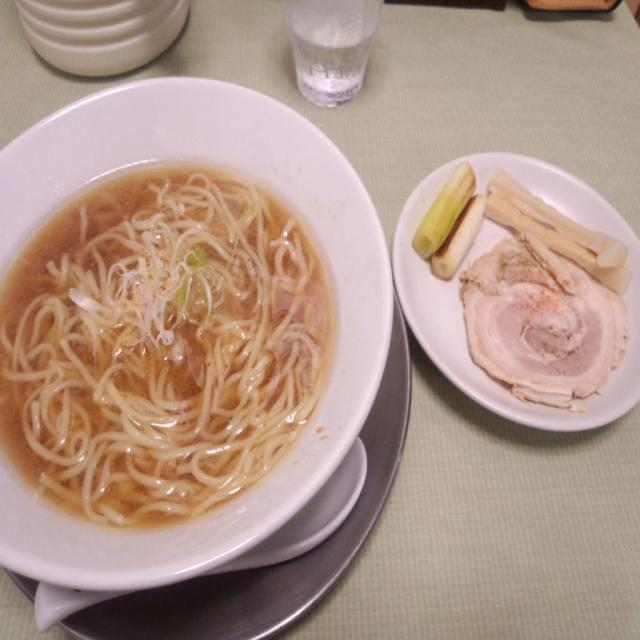non-organic waste: (0, 66, 398, 609), (385, 136, 640, 441)
